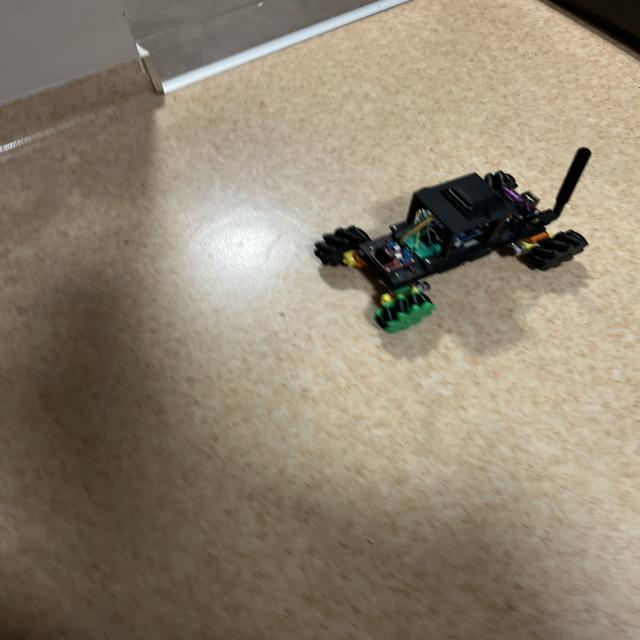robot: (314, 148, 591, 332)
